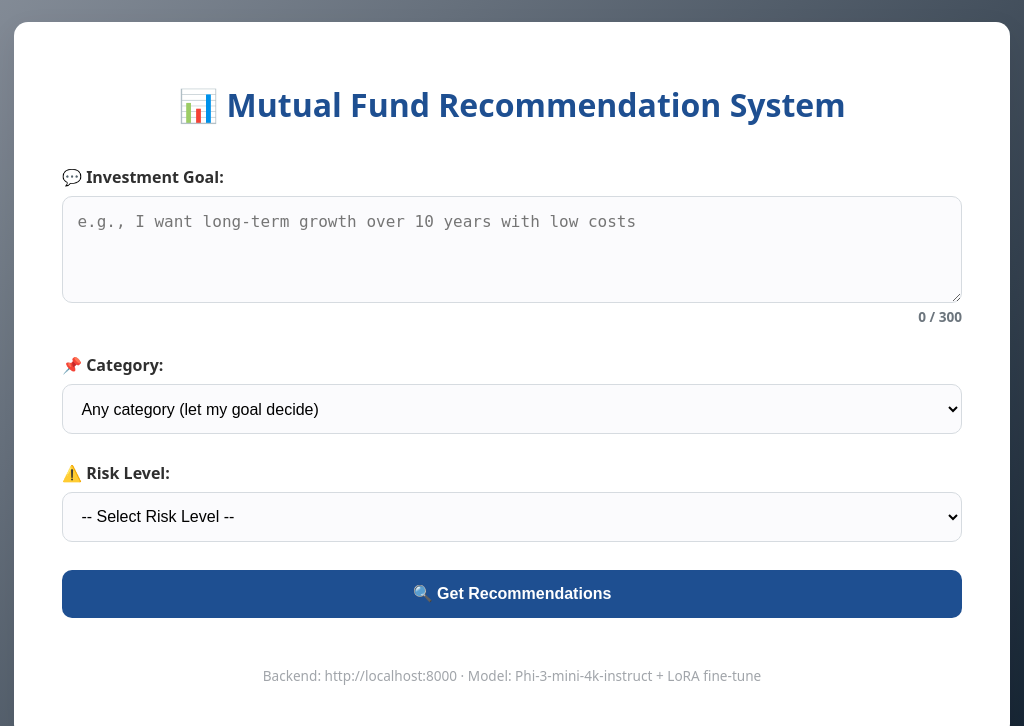
labels an old NAV as last published, not live
Expected: the text "· Model: Phi-3-mini-4k-instruct + LoRA fine-tune" is shown, x1=457 y1=666 x2=761 y2=685
In the text box with placeholder "e.g., I want long-term growth over 10 years with low costs": (512, 250) x1=62 y1=196 x2=962 y2=303, type "Long-term growth over ten years"
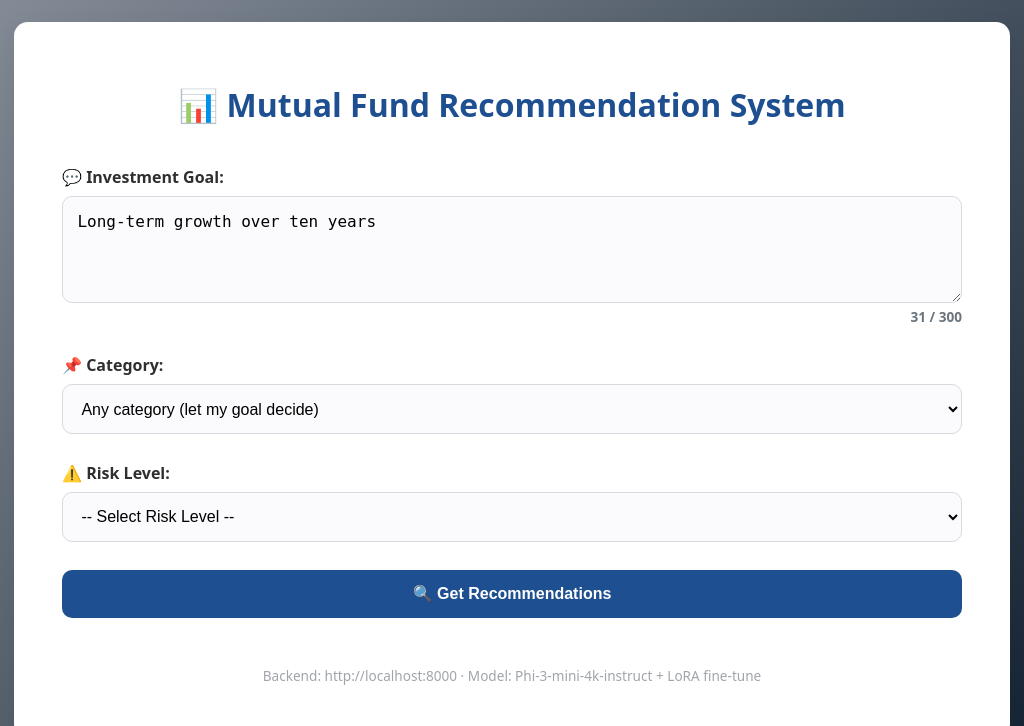
Select "High" in the dropdown labelled "⚠️ Risk Level:": (512, 517) x1=62 y1=492 x2=962 y2=542
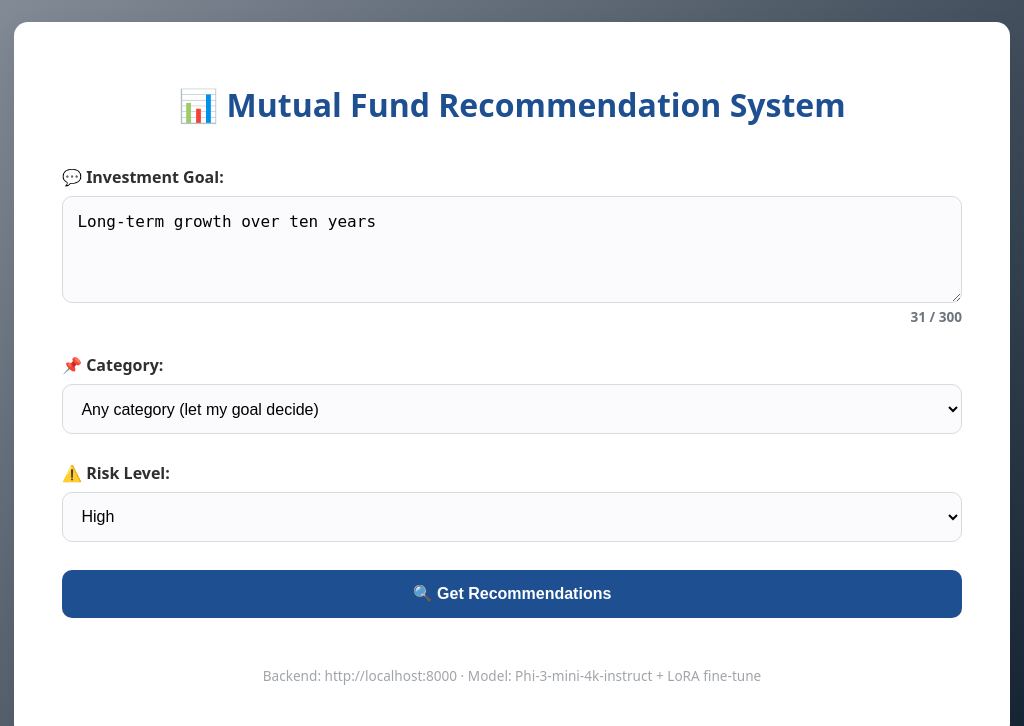
Click the button "🔍 Get Recommendations": (512, 594) x1=62 y1=570 x2=962 y2=618
(page scrolled)
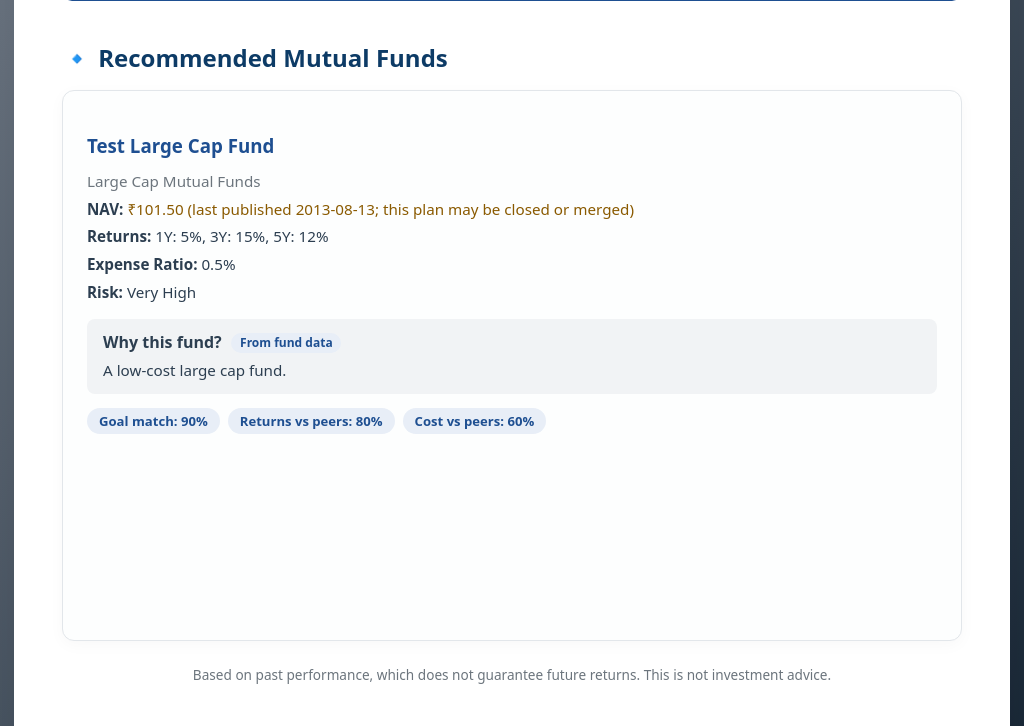
Now the text "last published 2013-08-13" is shown, box x1=127 y1=199 x2=634 y2=219
Now the text "From fund data" is shown, box x1=231 y1=333 x2=342 y2=353
